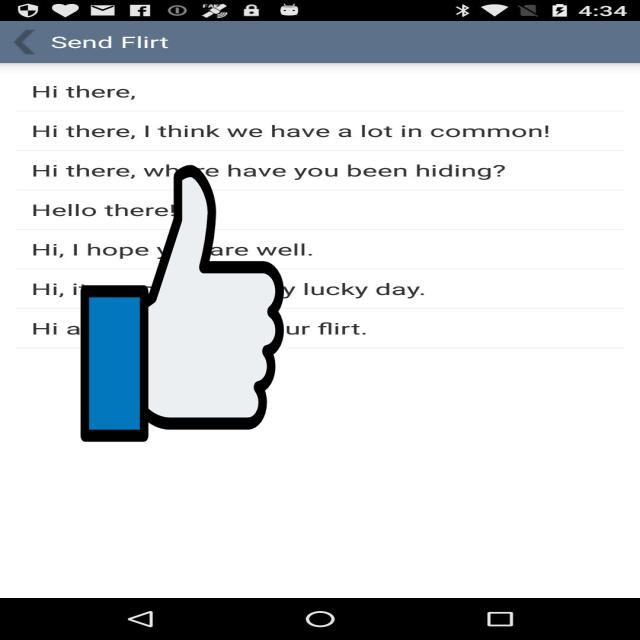privacy zuckering: (80, 159, 284, 448)
